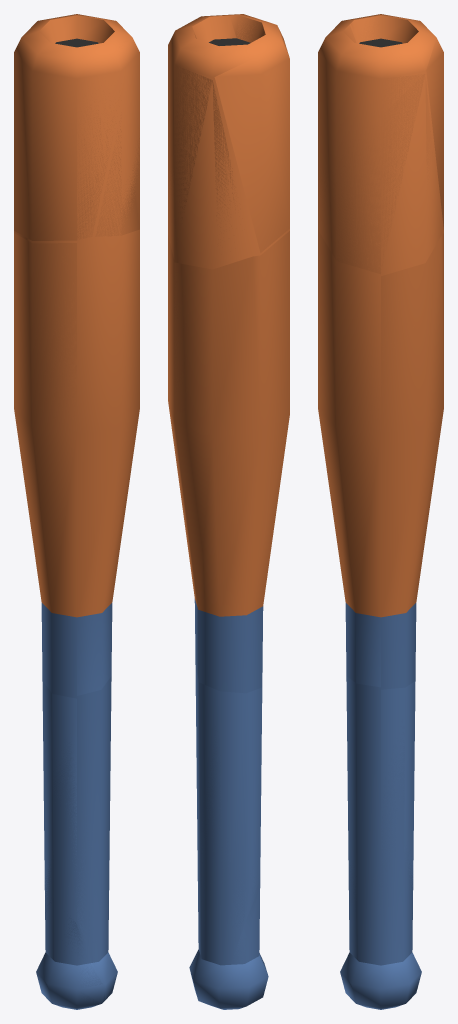
Rendered from BaseballBat_01.fbx.
The picture shows the model from 3 angles, left to right: view 1: azimuth 90°, elevation 25°; view 2: azimuth 210°, elevation 25°; view 3: azimuth 270°, elevation 25°; orthographic projection.
Parts seen in each view (by area): view 1: BaseballBat_01, BaseballBat_01_cell.003, BaseballBat_01_cell.001, BaseballBat_01_cell, BaseballBat_01_cell.002, BaseballBat_01_cell.004; view 2: BaseballBat_01, BaseballBat_01_cell.003, BaseballBat_01_cell, BaseballBat_01_cell.001, BaseballBat_01_cell.002, BaseballBat_01_cell.004; view 3: BaseballBat_01, BaseballBat_01_cell.003, BaseballBat_01_cell.002, BaseballBat_01_cell, BaseballBat_01_cell.001.
Boxes of the visible parts, x1,y1,x2,y2 form: BaseballBat_01: (14, 14, 139, 1009); BaseballBat_01_cell.003: (14, 233, 133, 695); BaseballBat_01_cell.001: (14, 31, 118, 240); BaseballBat_01_cell: (42, 681, 117, 1000); BaseballBat_01_cell.002: (77, 15, 139, 236); BaseballBat_01_cell.004: (45, 892, 102, 1009); BaseballBat_01: (168, 14, 289, 1009); BaseballBat_01_cell.003: (174, 231, 289, 679); BaseballBat_01_cell: (189, 682, 262, 1005); BaseballBat_01_cell.001: (214, 15, 289, 252); BaseballBat_01_cell.002: (168, 15, 235, 259); BaseballBat_01_cell.004: (220, 885, 260, 1008); BaseballBat_01: (318, 14, 443, 1009); BaseballBat_01_cell.003: (326, 233, 443, 687); BaseballBat_01_cell.002: (318, 25, 434, 274); BaseballBat_01_cell: (340, 681, 415, 1009); BaseballBat_01_cell.001: (350, 14, 443, 229).
Size of the model in its own units: 9.01 by 76.55 by 9.01.
